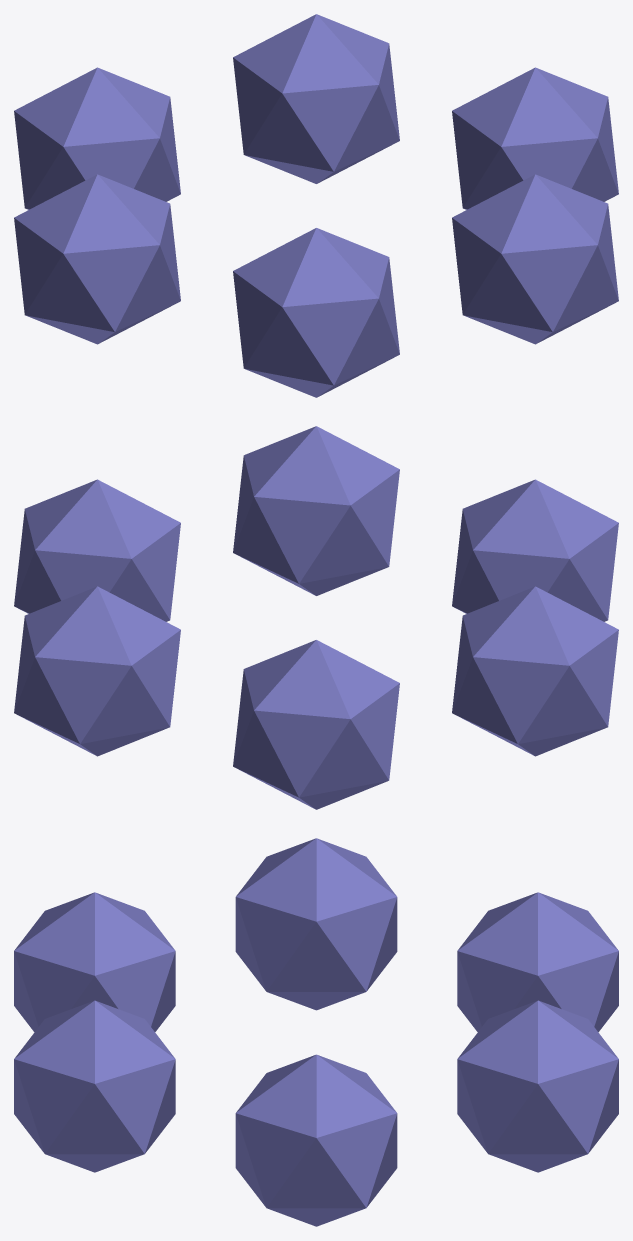
File: TopBlueberry.fbx
3 renders of one model, top to bottom at view 1: azimuth 30°, elevation 25°; view 2: azimuth 150°, elevation 25°; view 3: azimuth 270°, elevation 25°, orthographic.
Visible parts, largest first — view 1: TopBlueberry; view 2: TopBlueberry; view 3: TopBlueberry.
Boxes of the visible parts, box(x1,y1,x2,y2) form: TopBlueberry: box(14, 14, 618, 397); TopBlueberry: box(14, 426, 618, 809); TopBlueberry: box(14, 838, 618, 1226).
Size of the model in its own units: 0.0933 by 0.026 by 0.0827.
